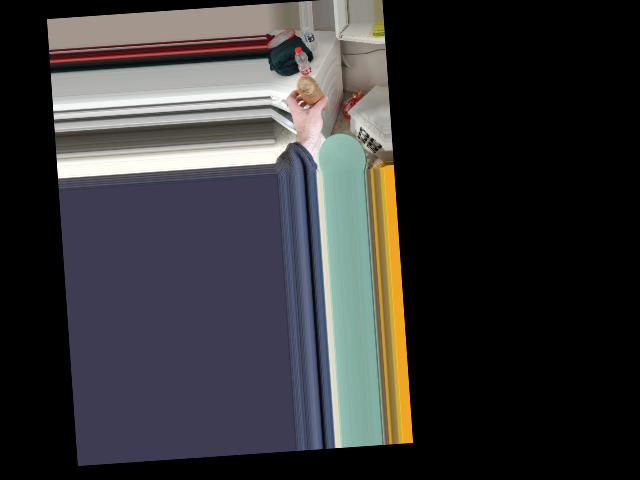sweet_potato: (295, 76, 330, 117)
